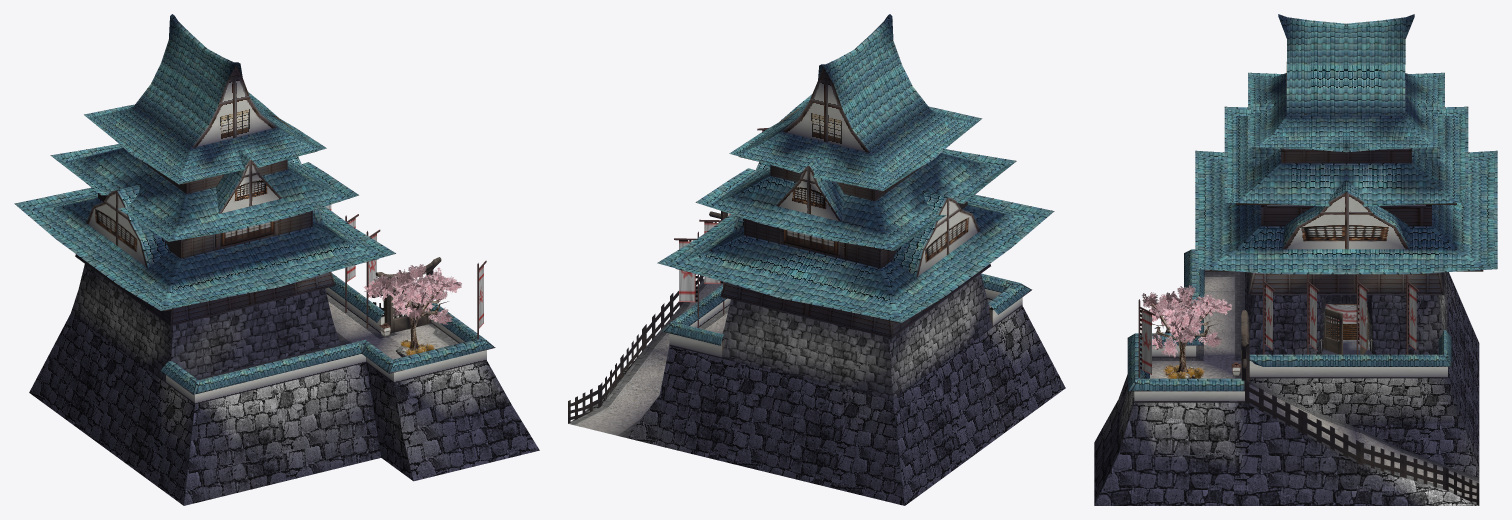
File: SIMPLE NIPON CASTLE PS1.glb
3 views of the same model, side by side, from view 1: azimuth 30°, elevation 25°; view 2: azimuth 150°, elevation 25°; view 3: azimuth 270°, elevation 25° (orthographic). The views are drawn at different scales.
Parts seen in each view (by area): view 1: CASTLE, SMALL TREE.001; view 2: CASTLE, BANNER.004; view 3: CASTLE, SMALL TREE.001, BANNER, BANNER.003, BANNER.004, BANNER.001, BANNER.002.
Part boxes in pixels (x1,y1,x2,y2): CASTLE: (14, 14, 539, 505); SMALL TREE.001: (363, 264, 461, 353); CASTLE: (568, 14, 1065, 505); BANNER.004: (674, 231, 698, 328); CASTLE: (1094, 14, 1497, 505); SMALL TREE.001: (1142, 285, 1231, 378); BANNER: (1138, 299, 1155, 377); BANNER.003: (1356, 274, 1368, 354); BANNER.004: (1406, 274, 1418, 354); BANNER.001: (1263, 274, 1275, 354); BANNER.002: (1307, 274, 1319, 354).
Size of the model in its own units: 49.97 by 54.18 by 51.38.
16 materials, 16 textured.
